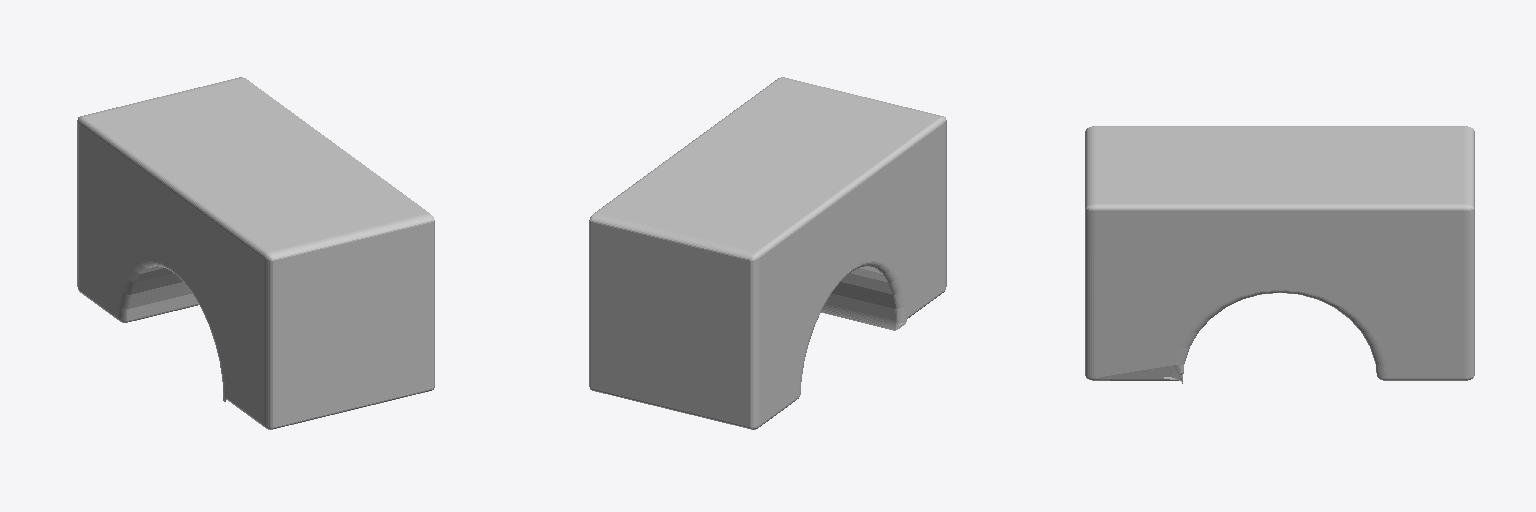
3 views of the same model, side by side, from view 1: azimuth 30°, elevation 25°; view 2: azimuth 150°, elevation 25°; view 3: azimuth 270°, elevation 25° (orthographic).
Visible parts, largest first — view 1: bridge; view 2: bridge; view 3: bridge.
Part boxes in pixels (bbox=[...]): bridge: bbox=[77, 77, 434, 429]; bridge: bbox=[589, 77, 946, 429]; bridge: bbox=[1085, 126, 1474, 383].
Bounding box in the file's own units: 1 × 1.03 × 2.